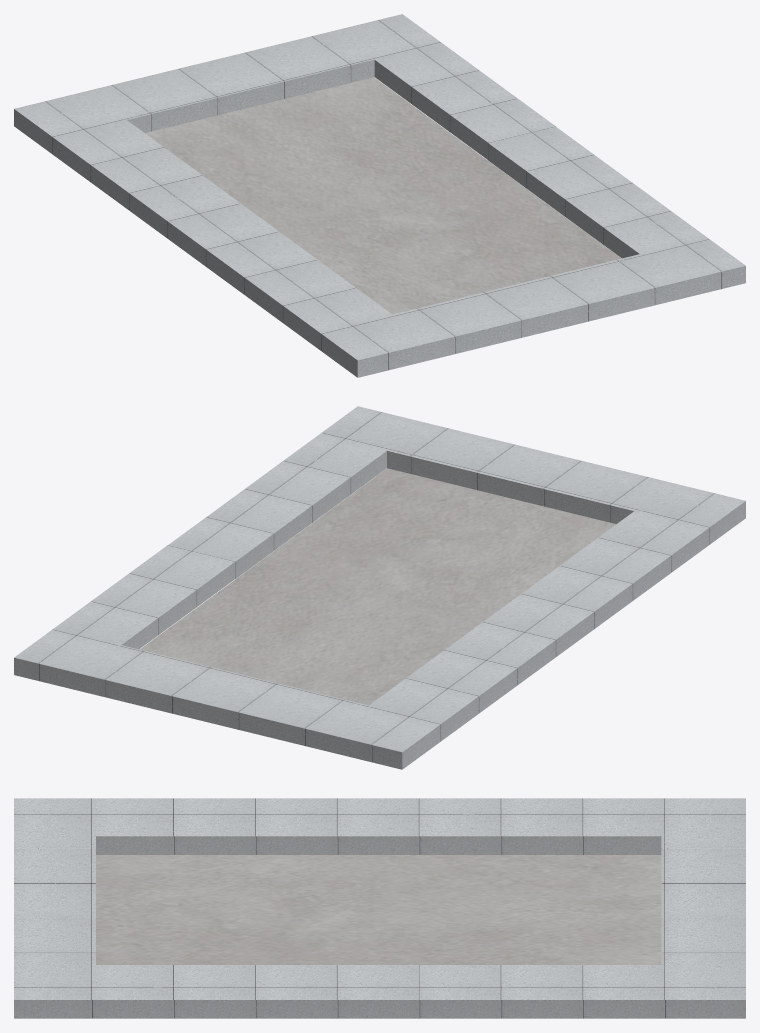
The model's file is Security-office-ROOF.glb.
3 renders of one model, top to bottom at view 1: azimuth 30°, elevation 25°; view 2: azimuth 150°, elevation 25°; view 3: azimuth 270°, elevation 25°, orthographic. The views are drawn at different scales.
Parts seen in each view (by area): view 1: Line2248, Box102; view 2: Line2248, Box102; view 3: Line2248, Box102.
Boxes of the visible parts, x1=… form: Line2248: x1=14, y1=14, x2=745, y2=377; Box102: x1=145, y1=77, x2=621, y2=314; Line2248: x1=14, y1=406, x2=745, y2=769; Box102: x1=140, y1=468, x2=615, y2=705; Line2248: x1=14, y1=798, x2=745, y2=1018; Box102: x1=96, y1=855, x2=661, y2=964.
Bounding box in the file's own units: 11.67 × 0.9111 × 17.88.
Materials: 2 (2 with a texture image).
